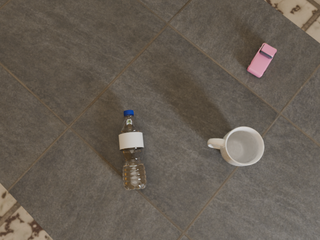bottle: (119, 110, 147, 190)
cup: (207, 127, 264, 166)
toy_car: (247, 43, 277, 77)
